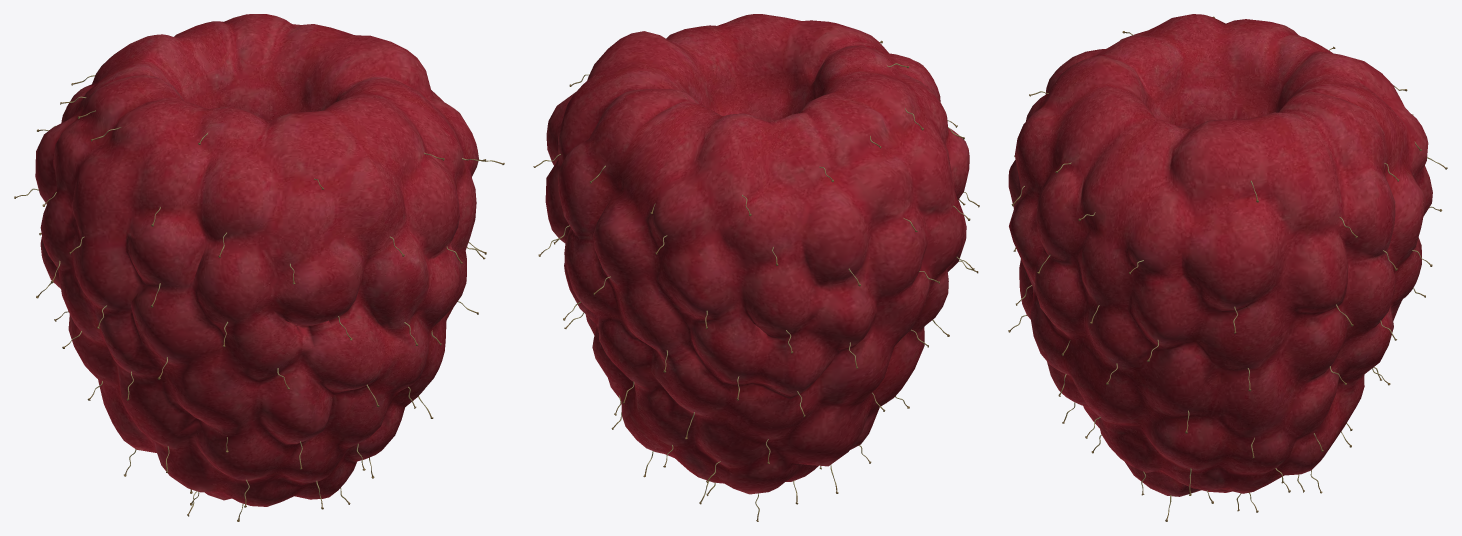
The model's file is raspberry-1.glb.
3 views of the same model, side by side, from view 1: azimuth 30°, elevation 25°; view 2: azimuth 150°, elevation 25°; view 3: azimuth 270°, elevation 25° (orthographic). The views are drawn at different scales.
Visible parts, largest first — view 1: Mesh_raspberry_0; view 2: Mesh_raspberry_0; view 3: Mesh_raspberry_0.
Boxes of the visible parts, x1,y1,x2,y2 form: Mesh_raspberry_0: (14, 14, 504, 521); Mesh_raspberry_0: (533, 14, 979, 521); Mesh_raspberry_0: (1008, 14, 1447, 521).
Size of the model in its own units: 6.39 by 6.54 by 6.07.
1 material, 1 textured.
